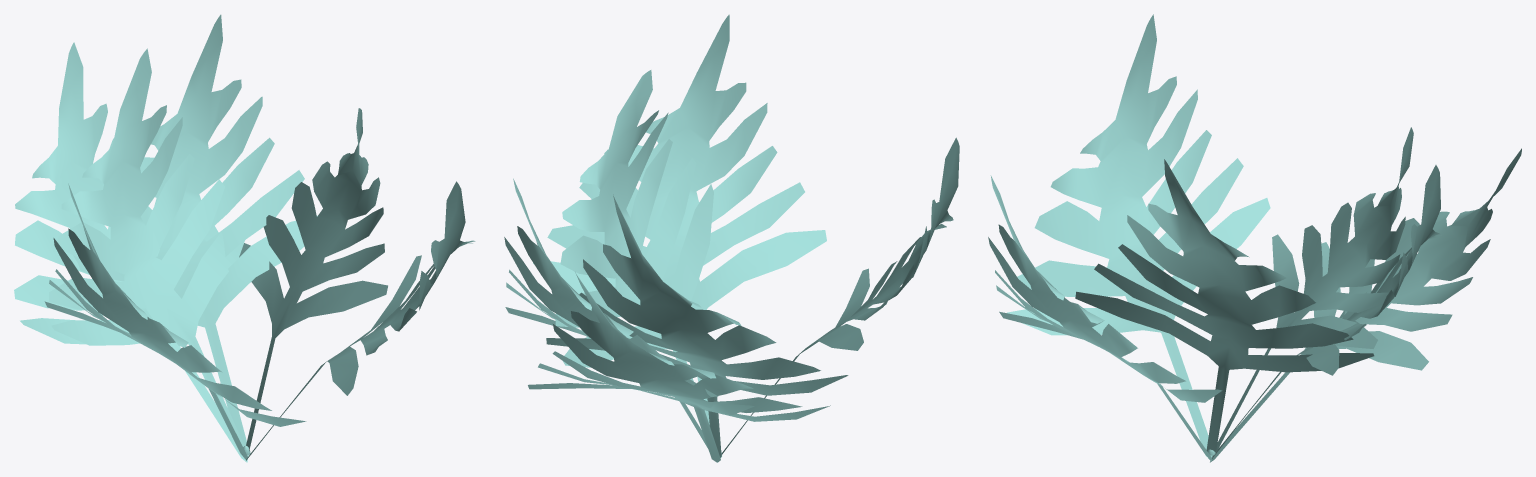
File: Phlebodium aureum.fbx
3 renders of one model, left to right at view 1: azimuth 30°, elevation 25°; view 2: azimuth 150°, elevation 25°; view 3: azimuth 270°, elevation 25°, orthographic. The views are drawn at different scales.
Parts seen in each view (by area): view 1: Phlebodium aureum|Phlebodium aureum Leaf|Dupli|4, Phlebodium aureum|Phlebodium aureum Leaf|Dupli|, Phlebodium aureum|Phlebodium aureum Leaf|Dupli|1, Phlebodium aureum|Phlebodium aureum Leaf|Dupli|5, Phlebodium aureum|Phlebodium aureum Leaf|Dupli|3, Phlebodium aureum|Phlebodium aureum Leaf|Dupli|2; view 2: Phlebodium aureum|Phlebodium aureum Leaf|Dupli|2, Phlebodium aureum|Phlebodium aureum Leaf|Dupli|1, Phlebodium aureum|Phlebodium aureum Leaf|Dupli|4, Phlebodium aureum|Phlebodium aureum Leaf|Dupli|5, Phlebodium aureum|Phlebodium aureum Leaf|Dupli|, Phlebodium aureum|Phlebodium aureum Leaf|Dupli|3; view 3: Phlebodium aureum|Phlebodium aureum Leaf|Dupli|3, Phlebodium aureum|Phlebodium aureum Leaf|Dupli|1, Phlebodium aureum|Phlebodium aureum Leaf|Dupli|4, Phlebodium aureum|Phlebodium aureum Leaf|Dupli|5, Phlebodium aureum|Phlebodium aureum Leaf|Dupli|2, Phlebodium aureum|Phlebodium aureum Leaf|Dupli|.
Boxes of the visible parts, x1,y1,x2,y2 form: Phlebodium aureum|Phlebodium aureum Leaf|Dupli|4: (49,48,244,457); Phlebodium aureum|Phlebodium aureum Leaf|Dupli|: (73,14,317,459); Phlebodium aureum|Phlebodium aureum Leaf|Dupli|1: (239,108,387,450); Phlebodium aureum|Phlebodium aureum Leaf|Dupli|5: (14,42,247,462); Phlebodium aureum|Phlebodium aureum Leaf|Dupli|3: (44,183,306,459); Phlebodium aureum|Phlebodium aureum Leaf|Dupli|2: (246,181,475,460); Phlebodium aureum|Phlebodium aureum Leaf|Dupli|2: (533,14,826,462); Phlebodium aureum|Phlebodium aureum Leaf|Dupli|1: (555,70,713,424); Phlebodium aureum|Phlebodium aureum Leaf|Dupli|4: (546,194,848,457); Phlebodium aureum|Phlebodium aureum Leaf|Dupli|5: (528,272,830,462); Phlebodium aureum|Phlebodium aureum Leaf|Dupli|: (504,178,754,447); Phlebodium aureum|Phlebodium aureum Leaf|Dupli|3: (721,137,959,454); Phlebodium aureum|Phlebodium aureum Leaf|Dupli|3: (1007,14,1270,460); Phlebodium aureum|Phlebodium aureum Leaf|Dupli|1: (1075,159,1374,452); Phlebodium aureum|Phlebodium aureum Leaf|Dupli|4: (1212,127,1413,457); Phlebodium aureum|Phlebodium aureum Leaf|Dupli|5: (1210,148,1521,462); Phlebodium aureum|Phlebodium aureum Leaf|Dupli|2: (988,175,1222,460); Phlebodium aureum|Phlebodium aureum Leaf|Dupli|: (1212,165,1441,458).
Bounding box in the file's own units: 412 × 358 × 496.
